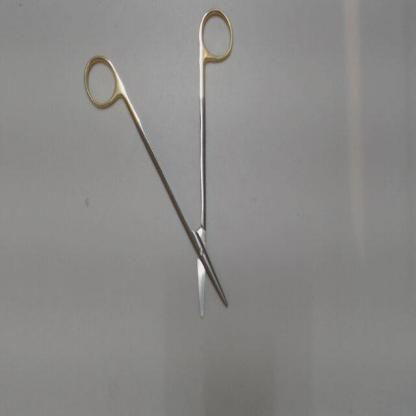7 Metzenbaum Scissors: (83, 6, 235, 318)
